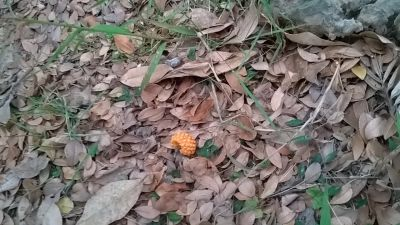eggs: (169, 131, 198, 155)
